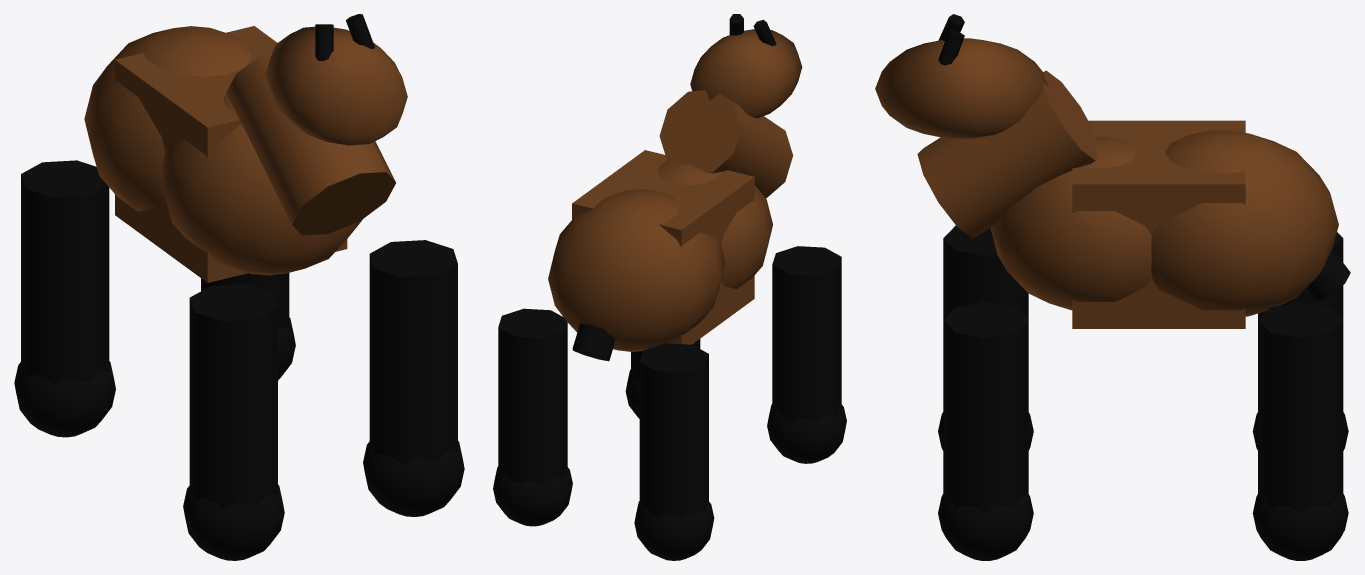
Rendered from steed.glb.
3 views of the same model, side by side, from view 1: azimuth 30°, elevation 25°; view 2: azimuth 150°, elevation 25°; view 3: azimuth 270°, elevation 25° (orthographic). The views are drawn at different scales.
Parts seen in each view (by area): view 1: Body, Tire2, Tire, Tire4, Tire3; view 2: Body, Tire2, Tire4, Tire3, Tire; view 3: Body, Tire3, Tire, Tire2, Tire4.
Part boxes in pixels (<box>): Body: <box>84,14,407,282</box>; Tire2: <box>183,284,284,560</box>; Tire: <box>363,240,464,516</box>; Tire4: <box>14,160,115,437</box>; Tire3: <box>201,273,295,380</box>; Body: <box>548,14,802,361</box>; Tire2: <box>767,246,846,463</box>; Tire4: <box>634,343,714,560</box>; Tire3: <box>493,308,572,526</box>; Tire: <box>625,339,700,418</box>; Body: <box>875,14,1350,328</box>; Tire3: <box>1252,302,1348,560</box>; Tire: <box>938,302,1033,560</box>; Tire2: <box>938,225,1033,450</box>; Tire4: <box>1252,232,1348,450</box>.
Bounding box in the file's own units: 1.19 × 2.24 × 1.96.
